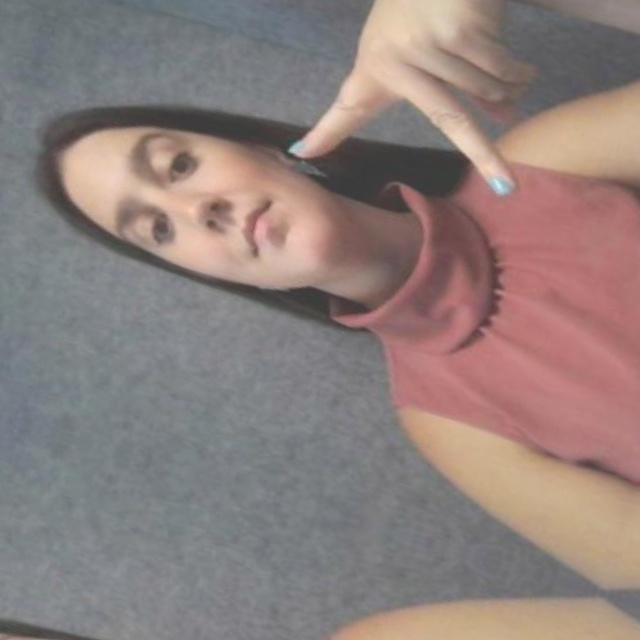Scissors: (282, 0, 581, 228)
